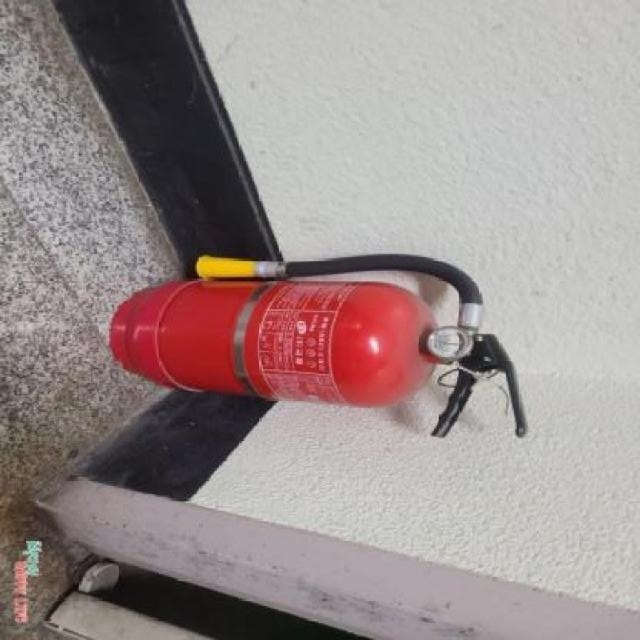fire extinguisher: (112, 253, 530, 439)
